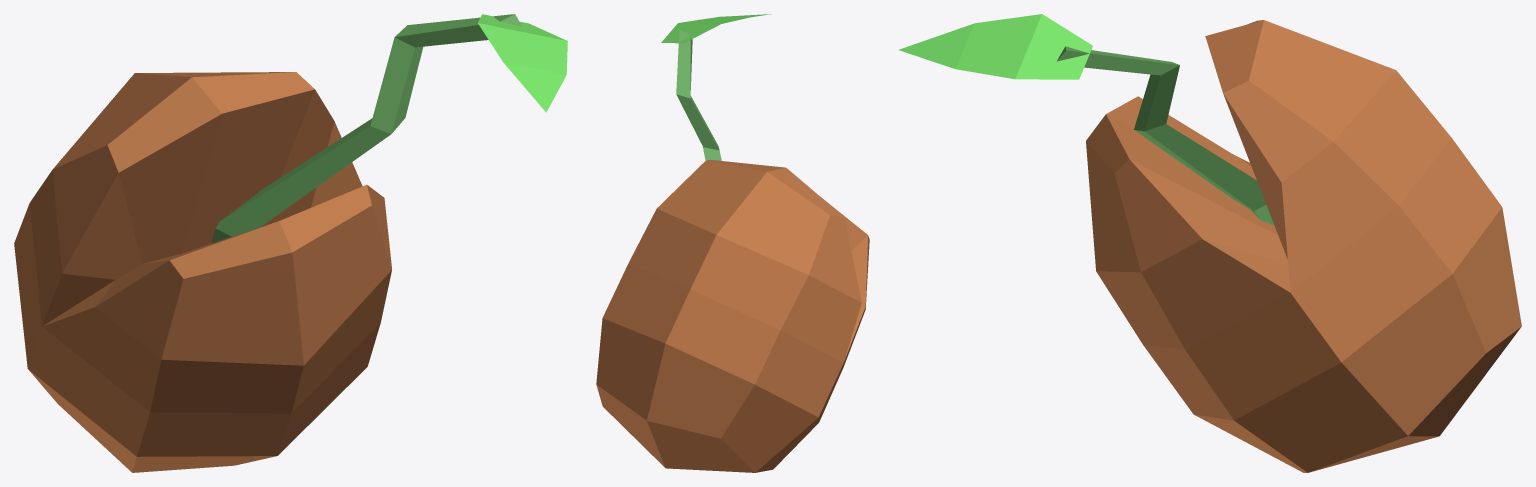
Rendered from Seed.fbx.
3 views of the same model, side by side, from view 1: azimuth 30°, elevation 25°; view 2: azimuth 150°, elevation 25°; view 3: azimuth 270°, elevation 25° (orthographic). The views are drawn at different scales.
Parts seen in each view (by area): view 1: Seed; view 2: Seed; view 3: Seed.
Boxes of the visible parts, <box> form: Seed: <box>14,14,567,472</box>; Seed: <box>596,14,869,472</box>; Seed: <box>899,14,1521,472</box>.
Size of the model in its own units: 0.1493 by 0.1881 by 0.2065.
